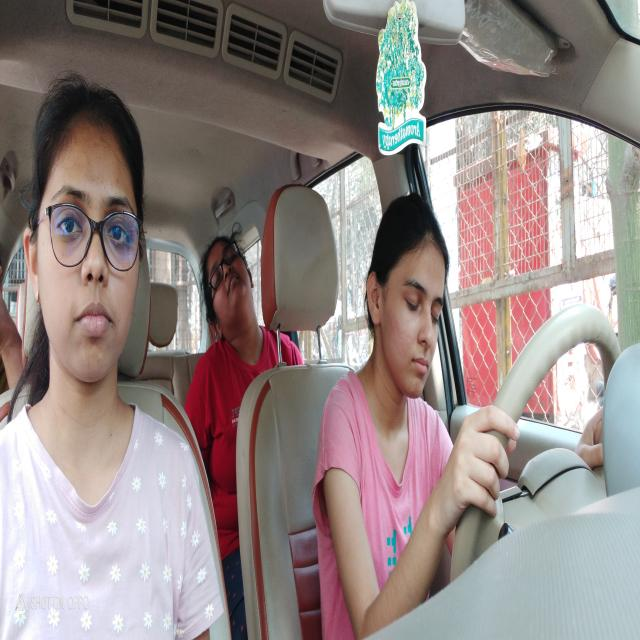drowsy: (365, 185, 452, 432)
person: (13, 63, 158, 420), (195, 213, 263, 368)
